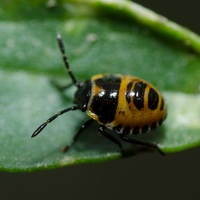insect: (31, 33, 166, 150)
